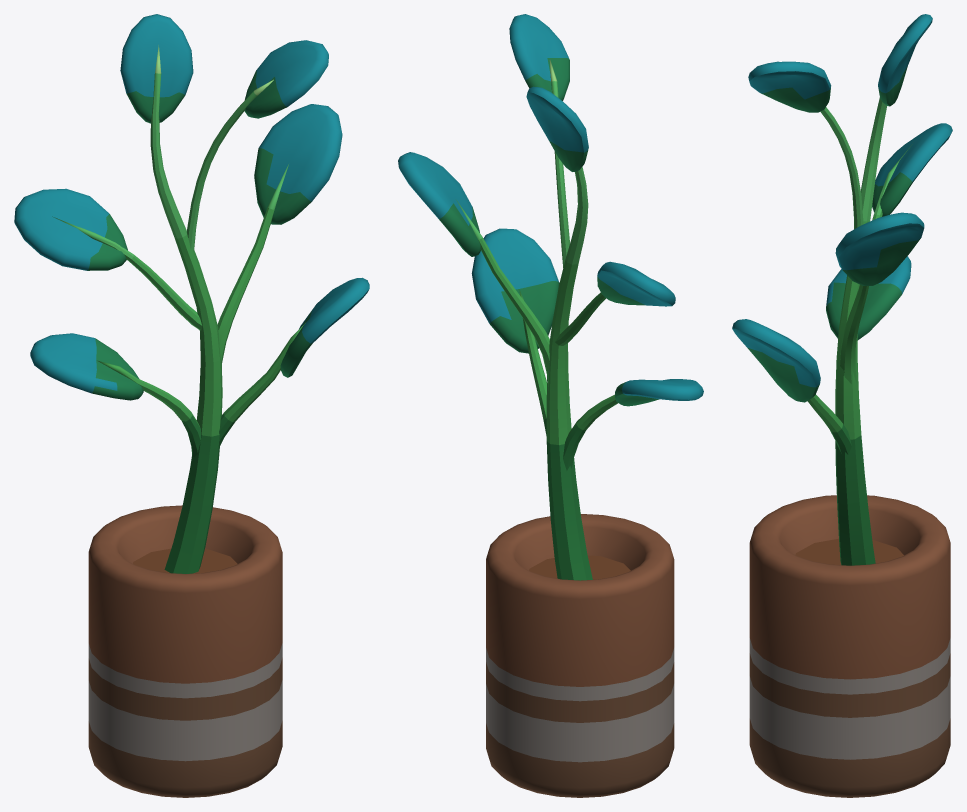
Rendered from planta_galhos_redondos_pacote.glb.
3 views of the same model, side by side, from view 1: azimuth 30°, elevation 25°; view 2: azimuth 150°, elevation 25°; view 3: azimuth 270°, elevation 25° (orthographic). The views are drawn at different scales.
Visible parts, largest first — view 1: planta_galhos_redondos_pacote; view 2: planta_galhos_redondos_pacote; view 3: planta_galhos_redondos_pacote.
Part boxes in pixels (x1,y1,x2,y2): planta_galhos_redondos_pacote: [14, 14, 369, 797]; planta_galhos_redondos_pacote: [398, 14, 703, 797]; planta_galhos_redondos_pacote: [732, 14, 952, 797].
Bounding box in the file's own units: 0.283 × 0.639 × 0.171.
Materials: 1 (1 with a texture image).
